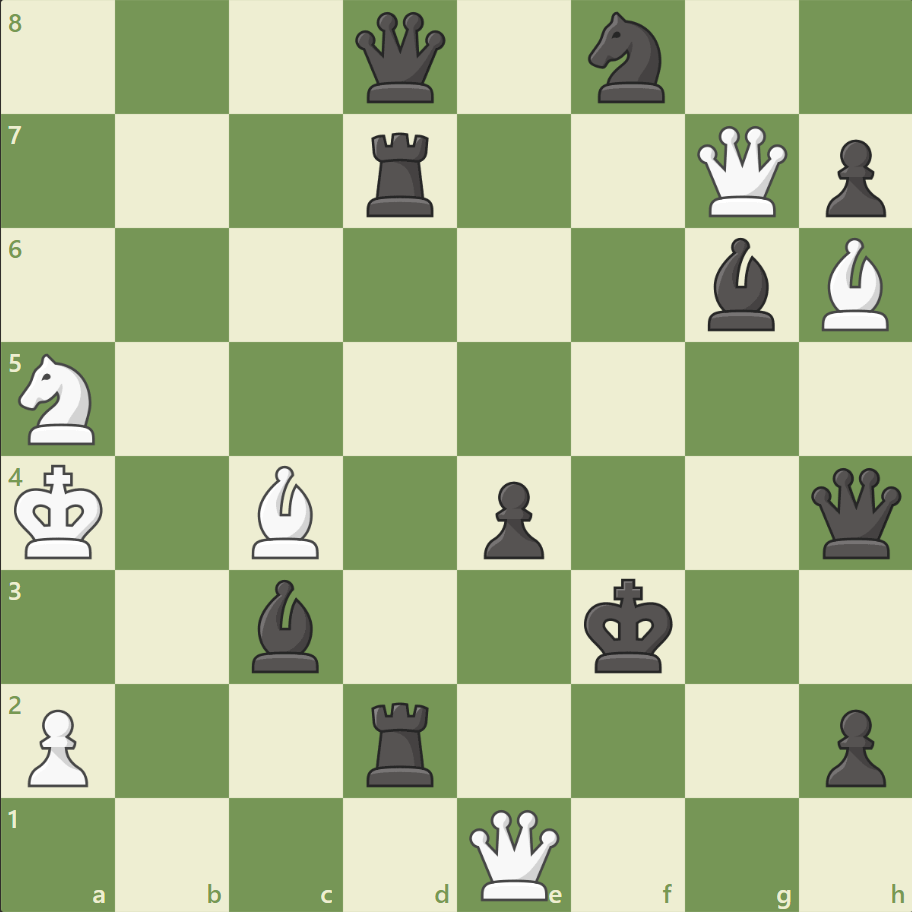B: (812, 233, 896, 336), (244, 460, 328, 563)
K: (11, 458, 111, 566)
N: (11, 348, 108, 450)
P: (20, 700, 95, 791)
Q: (691, 122, 790, 222), (464, 804, 563, 903)
b: (698, 233, 782, 336), (244, 574, 328, 676)
k: (579, 571, 679, 679)
n: (579, 7, 676, 110)
p: (474, 473, 549, 564), (815, 132, 889, 223), (815, 700, 889, 791)
q: (351, 9, 450, 108), (805, 463, 904, 562)
r: (360, 125, 442, 222), (360, 693, 442, 790)
